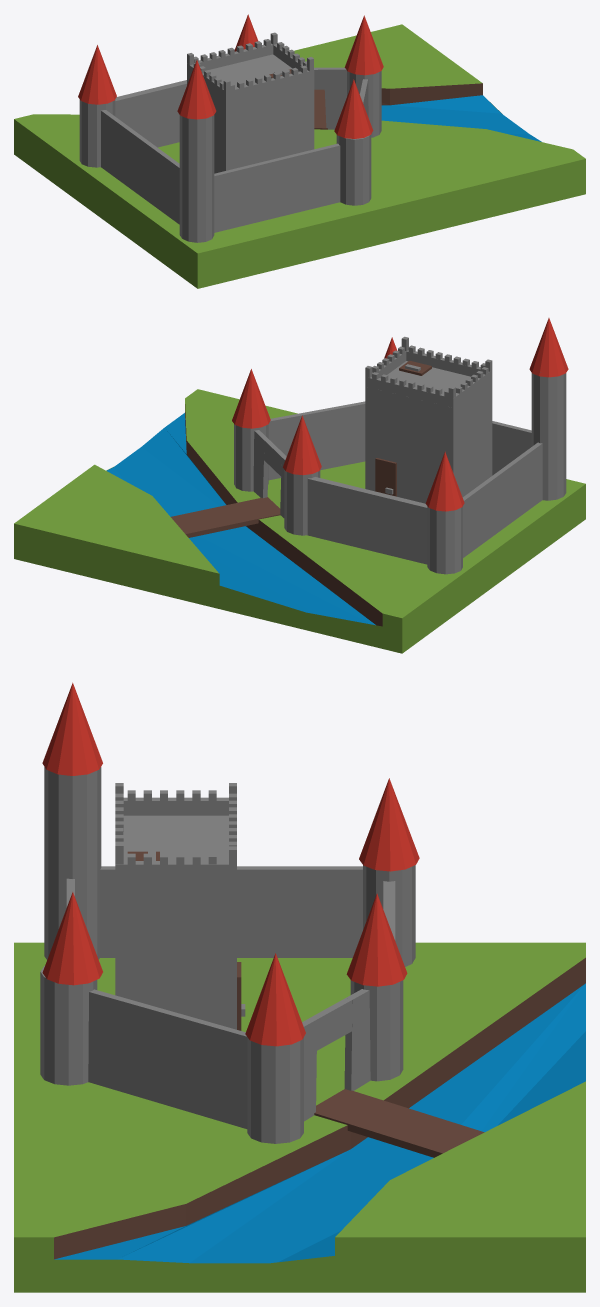
The picture shows the model from 3 angles, top to bottom: view 1: azimuth 30°, elevation 25°; view 2: azimuth 150°, elevation 25°; view 3: azimuth 270°, elevation 25°; orthographic projection. The views are drawn at different scales.
Parts seen in each view (by area): view 1: node_MeshObject-198313984-PolyPaper9; view 2: node_MeshObject-198313984-PolyPaper9; view 3: node_MeshObject-198313984-PolyPaper9.
Part boxes in pixels (left/top/right/bottom): node_MeshObject-198313984-PolyPaper9: left=14, top=14, right=585, bottom=288; node_MeshObject-198313984-PolyPaper9: left=14, top=318, right=585, bottom=653; node_MeshObject-198313984-PolyPaper9: left=14, top=682, right=585, bottom=1292.
Bounding box in the file's own units: 1.72 × 0.895 × 1.41.
